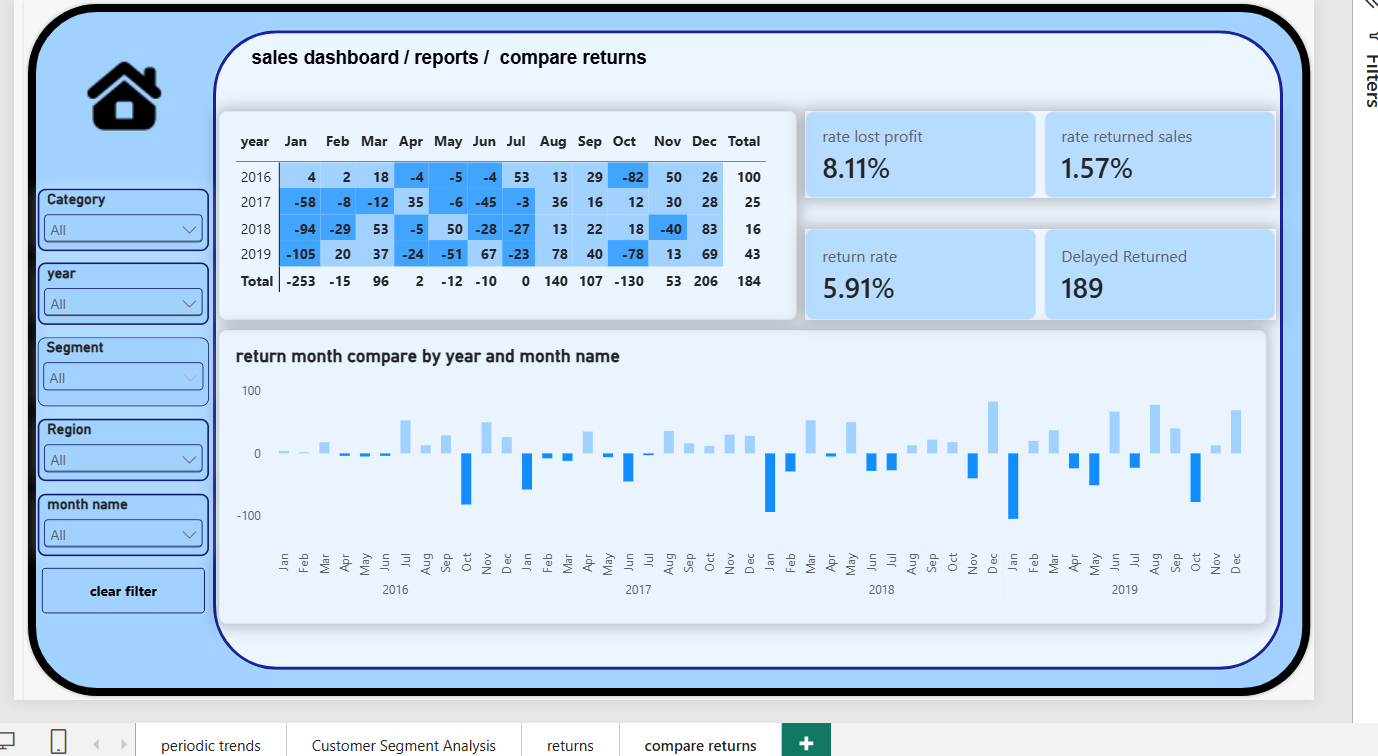

Layout of this report page (visuals, bound fields, positions):
{"tool":"powerbi","page":{"name":"compare returns","canvas":[1300,700],"ordinal":4},"visuals":[{"type":"shape","box":[9.8,0,1290.2,700],"z":0},{"type":"shape","box":[195.1,26.8,1078,647.6],"z":1},{"type":"pivotTable","fields":{"Rows":["calender table.year"],"Columns":["calender table.month name"],"Values":["Orders.return month compare"]},"box":[205,111.2,577.5,208.8],"z":3},{"type":"clusteredColumnChart","fields":{"Y":["Orders.return month compare"],"Category":["calender table.year","calender table.month name"]},"box":[205,330,1047.5,293.8],"z":4},{"type":"cardVisual","fields":{"Data":["Orders.return rate","Orders.Delayed Returned"]},"box":[791.2,228.8,470,91.2],"z":5},{"type":"cardVisual","fields":{"Data":["Orders.rate lost profit","Orders.rate returned sales"]},"box":[791.2,111.2,470,87.5],"z":7},{"type":"image","box":[57.5,47.5,105,102.5],"z":8},{"type":"slicer","fields":{"Values":["Orders.Category"]},"box":[23.8,136.2,171.2,62.5],"z":9},{"type":"slicer","fields":{"Values":["calender table.year"]},"box":[23.8,212.5,171.2,62.5],"z":10},{"type":"slicer","fields":{"Values":["Orders.Segment"]},"box":[23.8,286.2,171.2,68.8],"z":11},{"type":"slicer","fields":{"Values":["Orders.Region"]},"box":[23.8,366.2,171.2,62.5],"z":12},{"type":"slicer","fields":{"Values":["calender table.month name"]},"box":[23.8,437.5,171.2,62.5],"z":13},{"type":"actionButton","box":[23.8,582.5,171.2,53.8],"z":14},{"type":"textbox","box":[242.5,47.5,850,51.2],"z":15},{"type":"slicer","fields":{"Values":["Orders.Ship Mode"]},"box":[26.2,511.2,171.2,62.5],"z":16}]}

Visuals, with their boxes on the page's 1300x700 design canvas (x1, y1, x2, y2). These are canvas units, not pixel positions in the 1378x756 screenshot, which may show the page scaled, cropped or inside an application window:
shape: x1=10 y1=0 x2=1300 y2=700
shape: x1=195 y1=27 x2=1273 y2=674
pivotTable - calender table.year x calender table.month name: x1=205 y1=111 x2=782 y2=320
clusteredColumnChart - Orders.return month compare x calender table.year: x1=205 y1=330 x2=1252 y2=624
cardVisual - Orders.return rate x Orders.Delayed Returned: x1=791 y1=229 x2=1261 y2=320
cardVisual - Orders.rate lost profit x Orders.rate returned sales: x1=791 y1=111 x2=1261 y2=199
image: x1=58 y1=48 x2=162 y2=150
slicer - Orders.Category: x1=24 y1=136 x2=195 y2=199
slicer - calender table.year: x1=24 y1=212 x2=195 y2=275
slicer - Orders.Segment: x1=24 y1=286 x2=195 y2=355
slicer - Orders.Region: x1=24 y1=366 x2=195 y2=429
slicer - calender table.month name: x1=24 y1=438 x2=195 y2=500
actionButton: x1=24 y1=582 x2=195 y2=636
textbox: x1=242 y1=48 x2=1092 y2=99
slicer - Orders.Ship Mode: x1=26 y1=511 x2=197 y2=574
